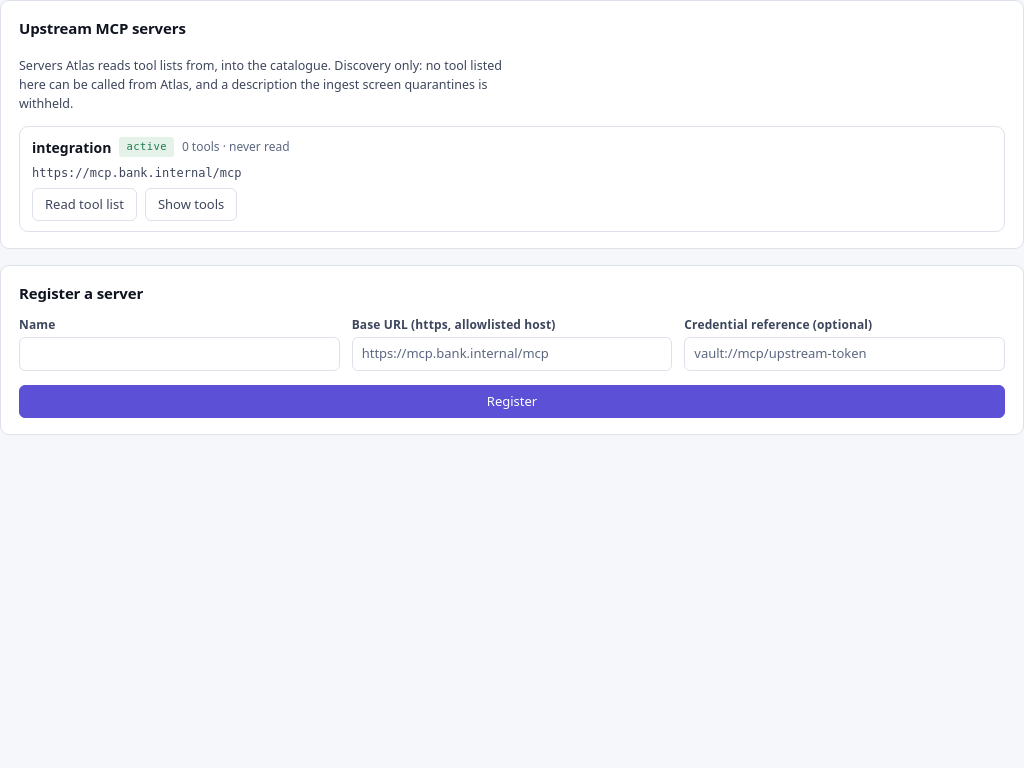
Test: UpstreamTab › reads a server's tool list and shows each tool with its screening verdict
The image size is (1024, 768).
What coordinates should you click on to do the following:
click the button "Read tool list"
I would click on:
 (84, 204)
Its box is [32, 188, 137, 221].
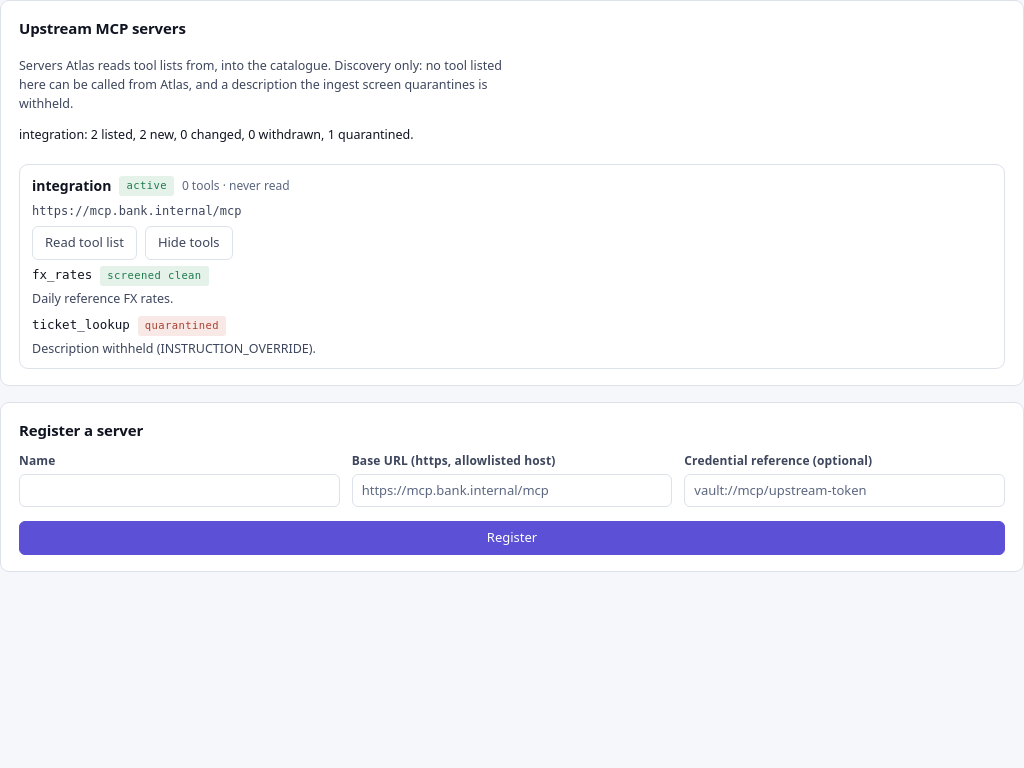
Now the text "integration: 2 listed, 2 new, 0 changed, 0 withdrawn, 1 quarantined." is shown, box [19, 126, 414, 143]
Now the text "fx_rates" is shown, box [32, 266, 92, 285]
Now the text "quarantined" is shown, box [138, 316, 226, 336]
